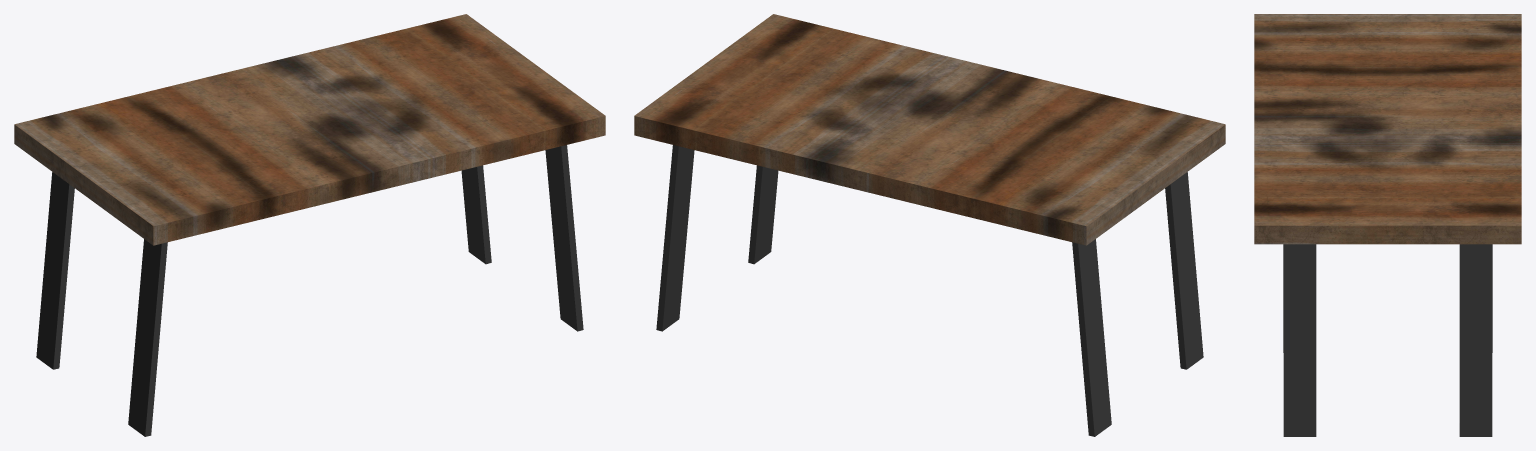
3 views of the same model, side by side, from view 1: azimuth 30°, elevation 25°; view 2: azimuth 150°, elevation 25°; view 3: azimuth 270°, elevation 25° (orthographic). The views are drawn at different scales.
Visible parts, largest first — view 1: wood, metal; view 2: wood, metal; view 3: wood, metal.
Boxes of the visible parts, left/top/right/bottom form: wood: left=14, top=14, right=605, bottom=245; metal: left=36, top=145, right=583, bottom=436; wood: left=634, top=14, right=1225, bottom=245; metal: left=656, top=145, right=1203, bottom=436; wood: left=1254, top=14, right=1521, bottom=244; metal: left=1283, top=244, right=1492, bottom=436.
Size of the model in its own units: 1.65 by 0.7801 by 0.88.
2 materials, 1 textured.
